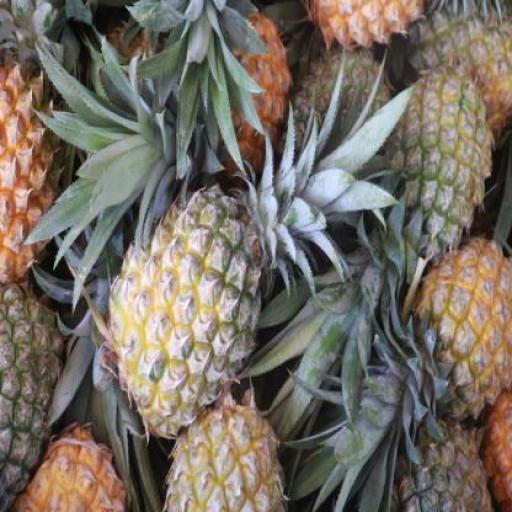------------------------------: (108, 185, 259, 432), (385, 64, 484, 258), (164, 400, 286, 512)
Pineapple - v8 v1: (413, 234, 512, 415), (0, 46, 63, 294)
